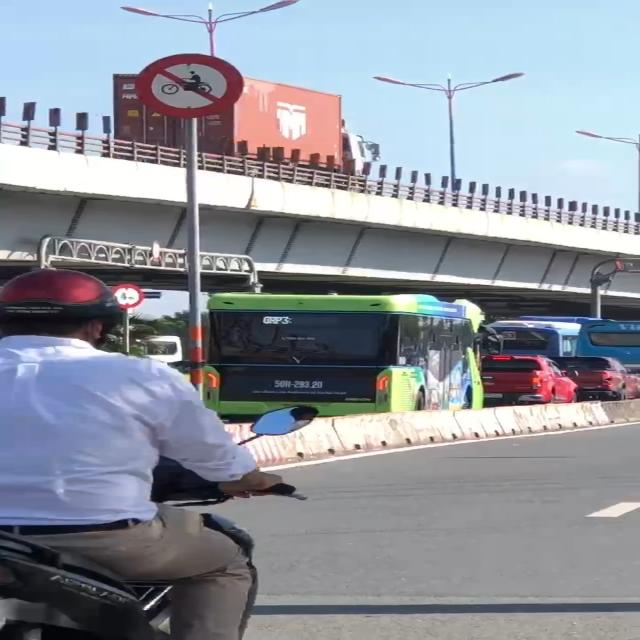Bien bao cam xe may: (129, 49, 252, 122)
